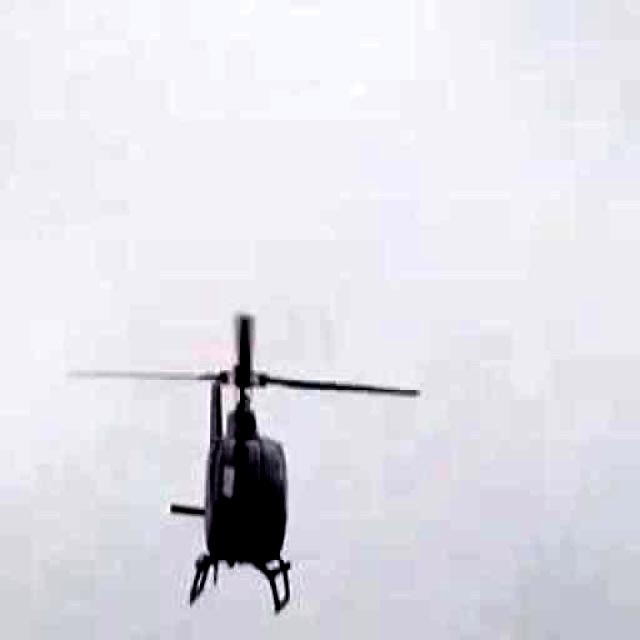drone: (44, 194, 448, 640)
